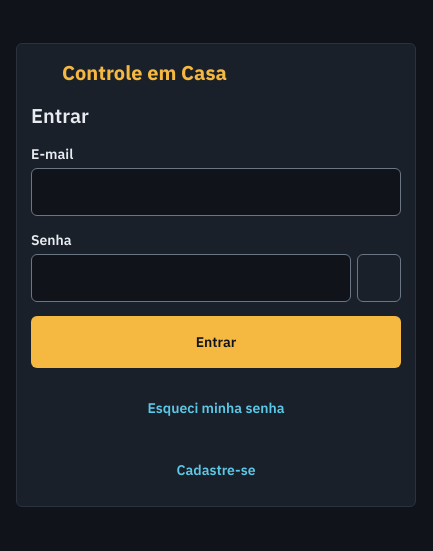
Test: T01 Entrar › recusa "conta_em_exclusao": o alerta tem o texto próprio, sem o código
Type "leandro@exemplo.com" into the field labelled "E-mail". click: {"x": 216, "y": 192}
box: [31,168,401,216]
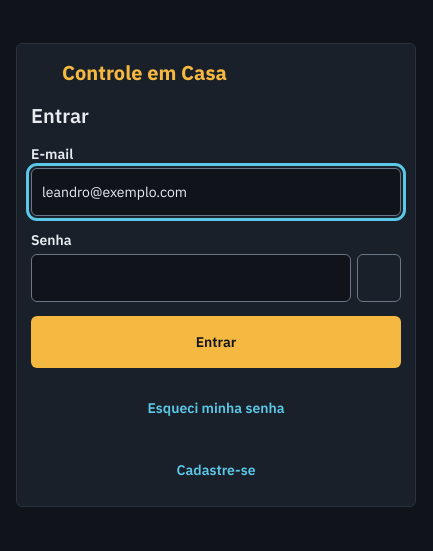
Type "senha-correta-123" into the password field labelled "Senha". click: {"x": 191, "y": 278}
box: [31,254,351,302]
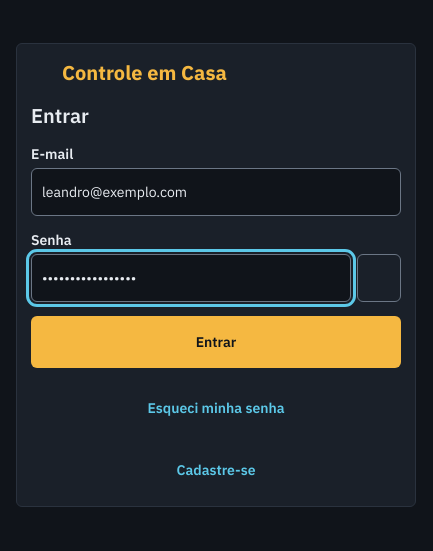
Click the button "Entrar". click: {"x": 216, "y": 342}
box: [31,316,401,368]
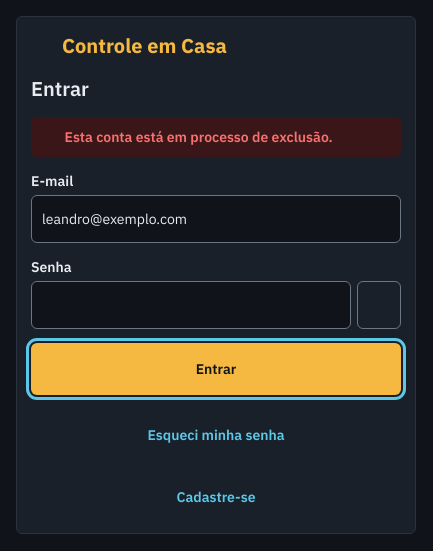
expect the message shows "processo de exclusão": met, box [64,128,333,146]
